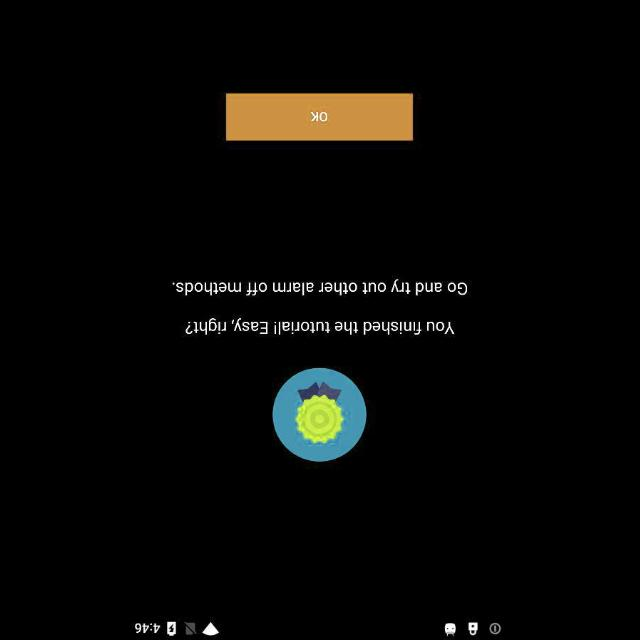image: (273, 368, 367, 462)
text: (172, 278, 468, 296), (186, 317, 454, 335)
textbutton: (226, 94, 414, 140)
uppertaskbar: (128, 617, 512, 639)
